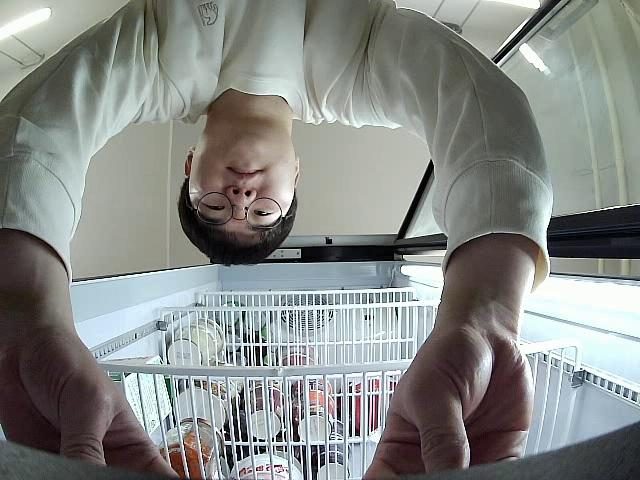00_hand: (0, 290, 183, 480), (359, 331, 535, 480)
